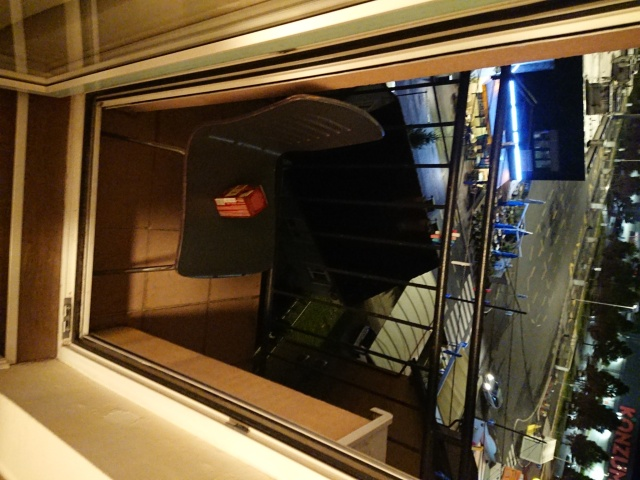Franck Apple Cinnamon Tea 60g: (211, 179, 272, 221)
